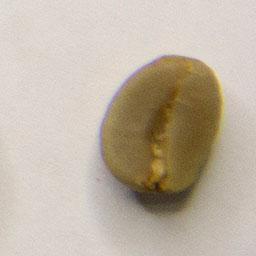premium: (96, 51, 225, 199)
